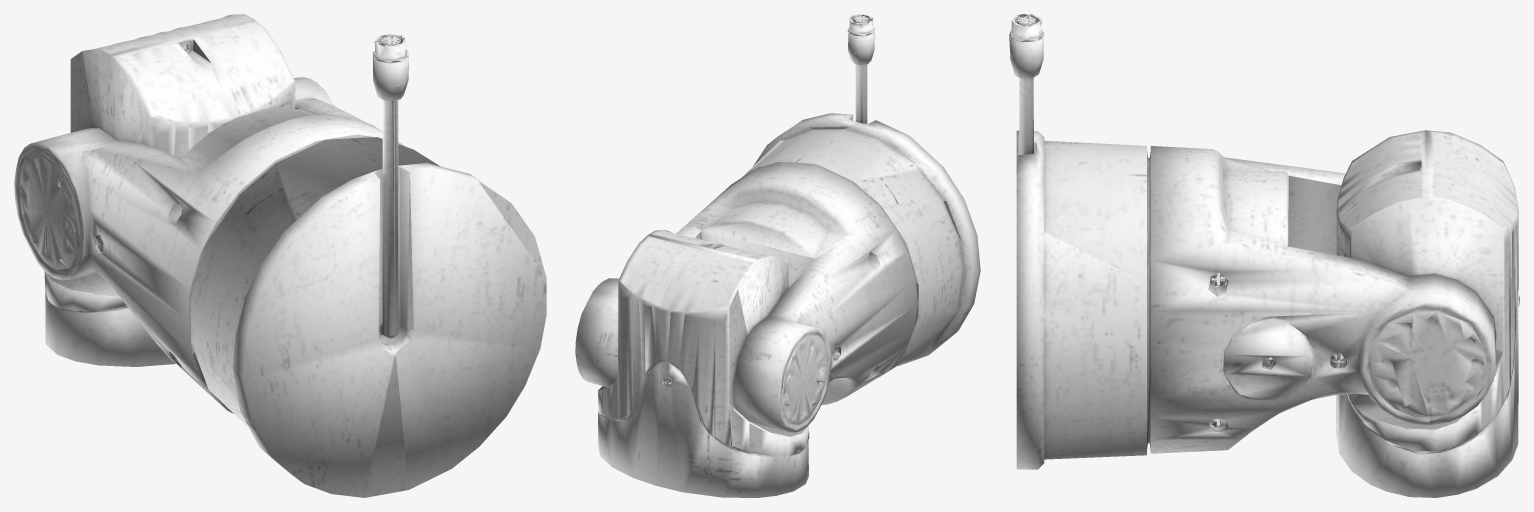
Rendered from eye_vision_camera.dae.
3 views of the same model, side by side, from view 1: azimuth 30°, elevation 25°; view 2: azimuth 150°, elevation 25°; view 3: azimuth 270°, elevation 25° (orthographic). The views are drawn at different scales.
Visible parts, largest first — view 1: screws; view 2: screws; view 3: screws.
Part boxes in pixels (<box>): screws: <box>14,14,546,497</box>; screws: <box>575,14,980,497</box>; screws: <box>1009,14,1519,497</box>.
Size of the model in its own units: 0.108 by 0.1632 by 0.1527.
1 material, 1 textured.
